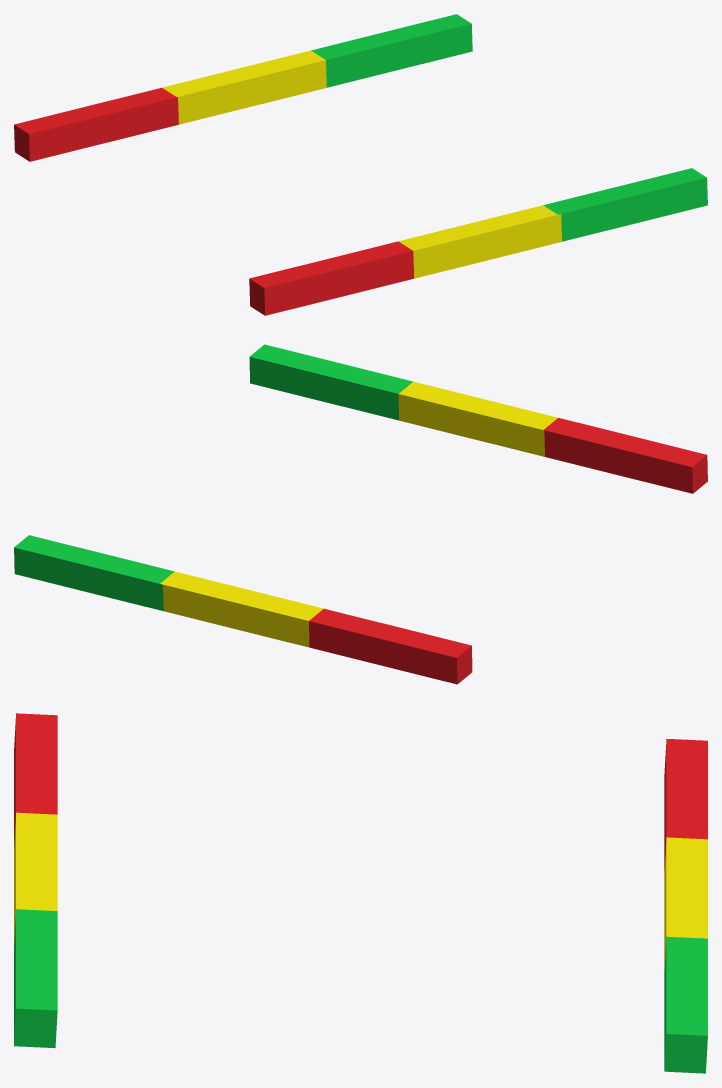
File: gabh2.glb
3 renders of one model, top to bottom at view 1: azimuth 30°, elevation 25°; view 2: azimuth 150°, elevation 25°; view 3: azimuth 270°, elevation 25°, orthographic. The views are drawn at different scales.
Parts seen in each view (by area): view 1: node_id8, node_id17, node_id20, node_id11, node_id14, node_id23; view 2: node_id8, node_id17, node_id14, node_id23, node_id20, node_id11; view 3: node_id14, node_id23, node_id8, node_id20, node_id17, node_id11.
Part boxes in pixels (x1,y1,x2,y2): node_id8: (249, 241, 414, 315); node_id17: (14, 87, 178, 161); node_id20: (162, 50, 326, 124); node_id11: (398, 205, 561, 278); node_id14: (543, 168, 707, 241); node_id23: (311, 14, 472, 87); node_id8: (544, 418, 707, 493); node_id17: (309, 608, 472, 684); node_id14: (249, 344, 412, 420); node_id23: (14, 535, 174, 610); node_id20: (160, 571, 323, 647); node_id11: (398, 381, 557, 456); node_id14: (14, 909, 57, 1048); node_id23: (664, 936, 707, 1073); node_id8: (14, 713, 57, 847); node_id20: (664, 837, 707, 971); node_id17: (664, 738, 707, 872); node_id11: (14, 812, 57, 945).
Size of the model in its own units: 0.1323 by 0.0141 by 0.13.
Materials: 6 (6 with a texture image).
